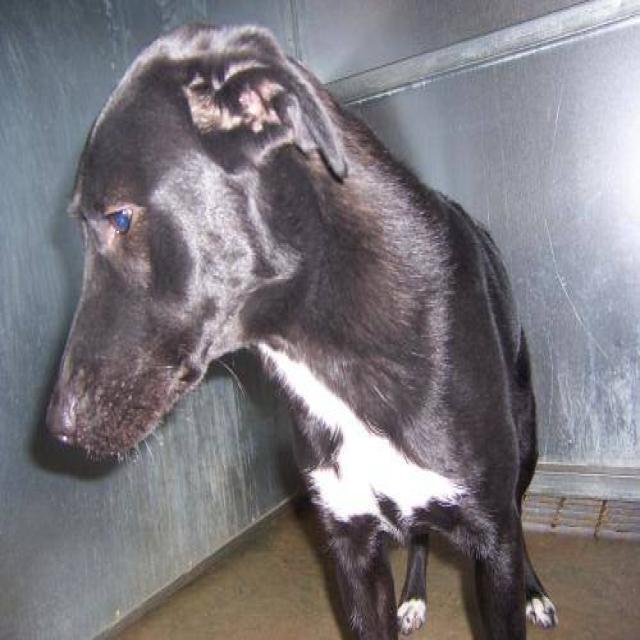Dog: (29, 19, 351, 465)
